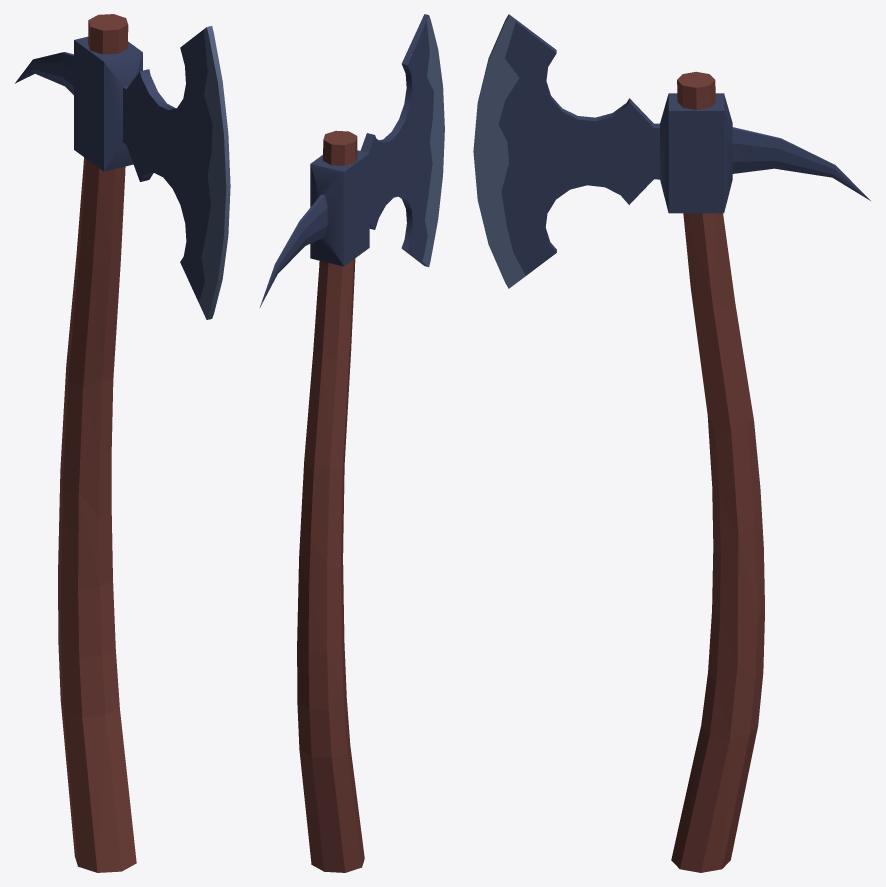
The model's file is Battle_Axe_01.fbx.
3 renders of one model, left to right at view 1: azimuth 30°, elevation 25°; view 2: azimuth 150°, elevation 25°; view 3: azimuth 270°, elevation 25°, orthographic. The views are drawn at different scales.
Visible parts, largest first — view 1: Battle Axe 01; view 2: Battle Axe 01; view 3: Battle Axe 01.
Part boxes in pixels (x1,y1,x2,y2): Battle Axe 01: (15,14,230,872); Battle Axe 01: (259,14,444,872); Battle Axe 01: (473,14,870,872).
Size of the model in its own units: 7.28 by 114 by 48.59.
